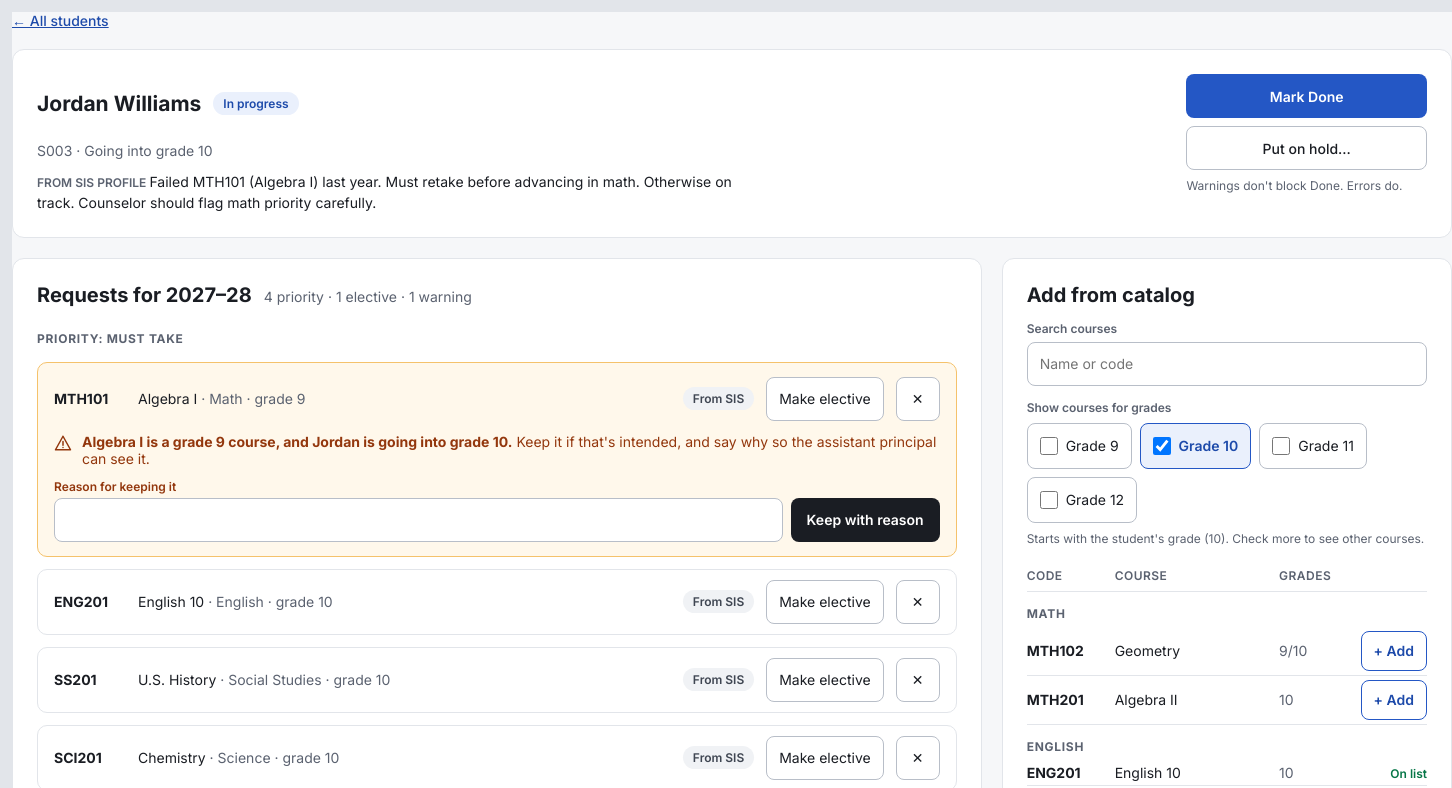
Cancel closes the hold form without saving
The image size is (1452, 788).
Click the button "Put on hold…" at (1307, 148), box [1186,126,1427,170]
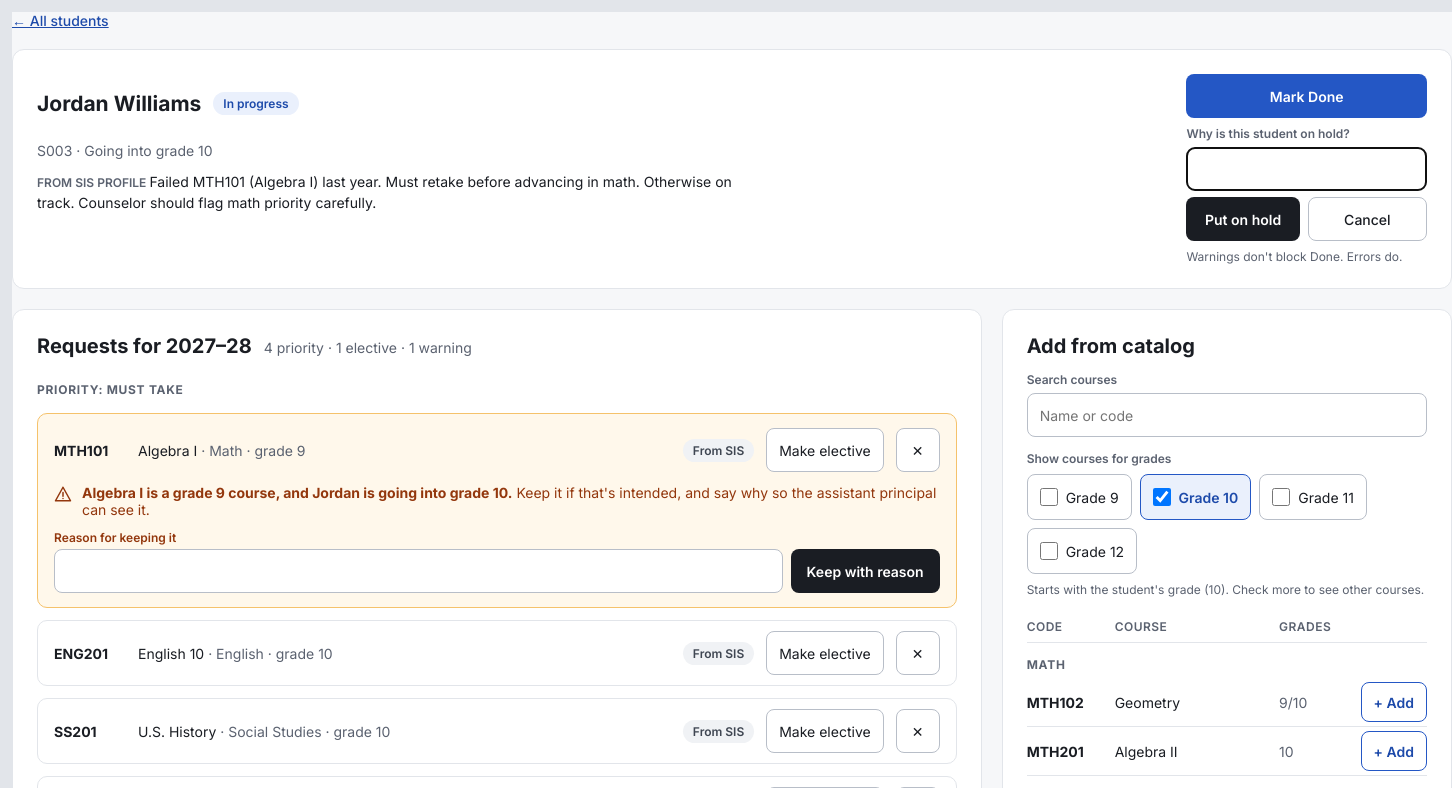
Click the button "Cancel" at (1367, 219), box [1308,197,1427,241]
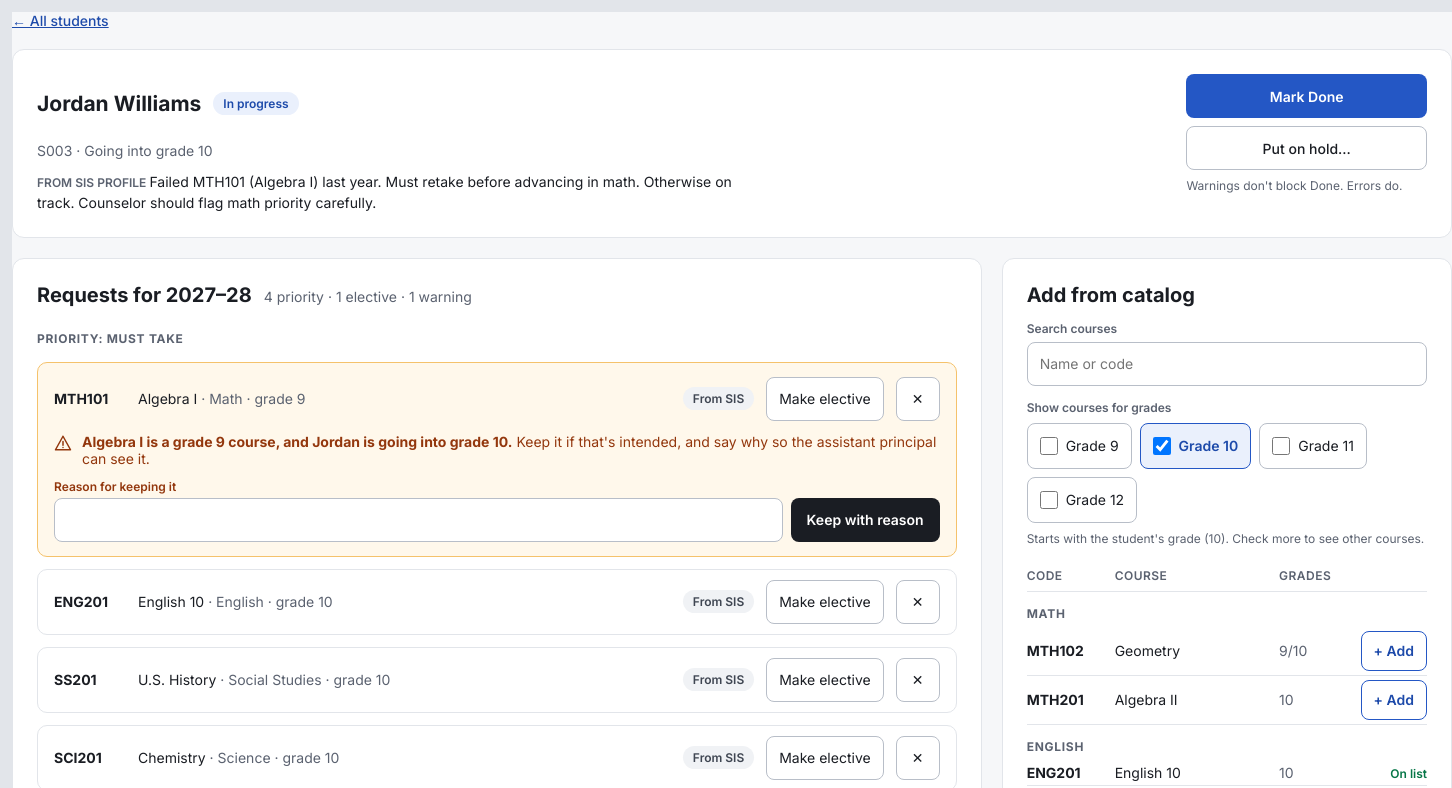
Check: the label labelled "Why is this student on hold?" is gone
